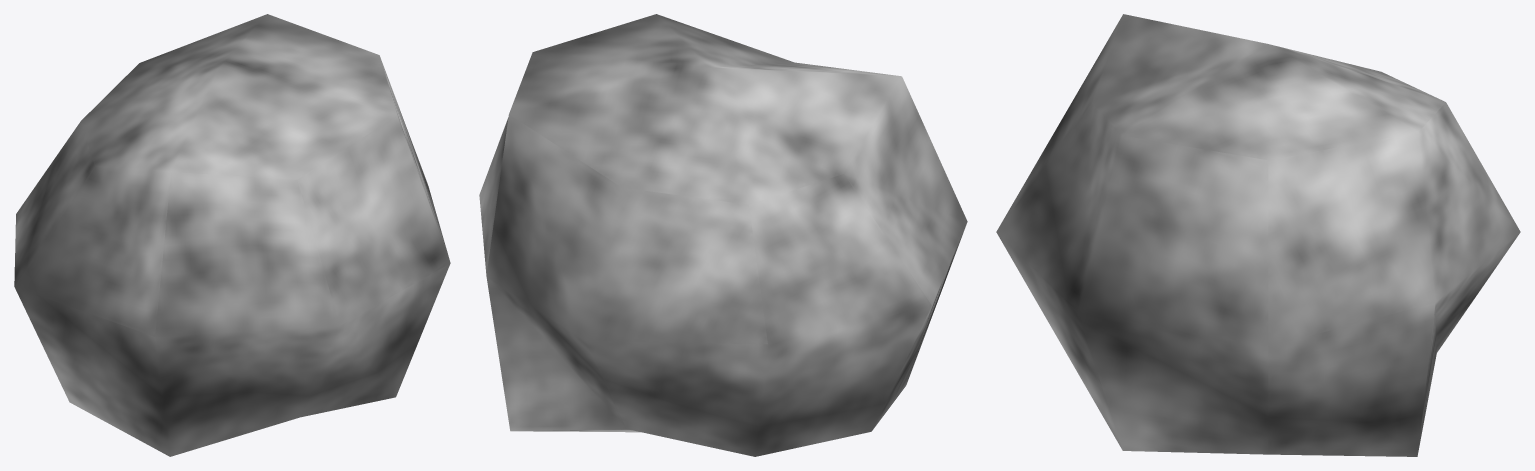
The model's file is asteroid2.glb.
3 renders of one model, left to right at view 1: azimuth 30°, elevation 25°; view 2: azimuth 150°, elevation 25°; view 3: azimuth 270°, elevation 25°, orthographic. The views are drawn at different scales.
Parts seen in each view (by area): view 1: asteroid 01.006; view 2: asteroid 01.006; view 3: asteroid 01.006.
Boxes of the visible parts, x1=… form: asteroid 01.006: x1=14, y1=14, x2=450, y2=456; asteroid 01.006: x1=479, y1=14, x2=967, y2=456; asteroid 01.006: x1=996, y1=14, x2=1520, y2=456.
Bounding box in the file's own units: 3.52 × 2.71 × 3.44.
1 material, 1 textured.
